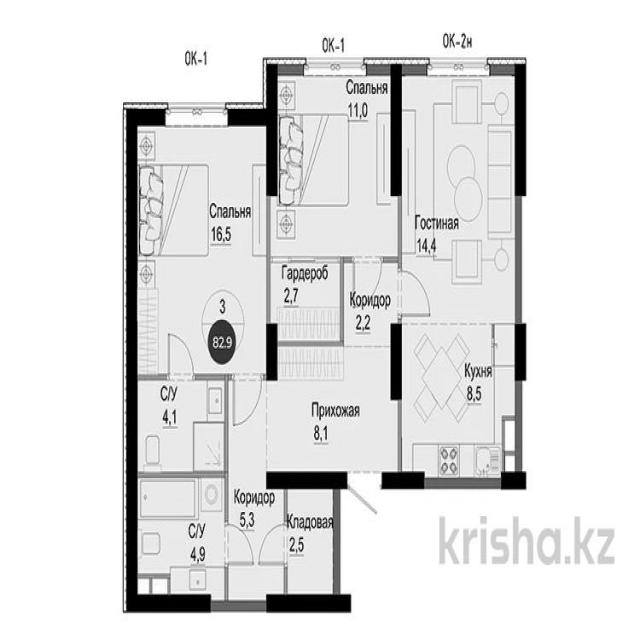bathroom: (134, 477, 226, 611), (132, 381, 225, 476)
hallway: (346, 260, 399, 471), (230, 384, 344, 468), (228, 473, 284, 596)
living_room: (130, 114, 270, 374), (272, 69, 398, 257)
other: (271, 260, 341, 344)
studio: (400, 65, 519, 480)
